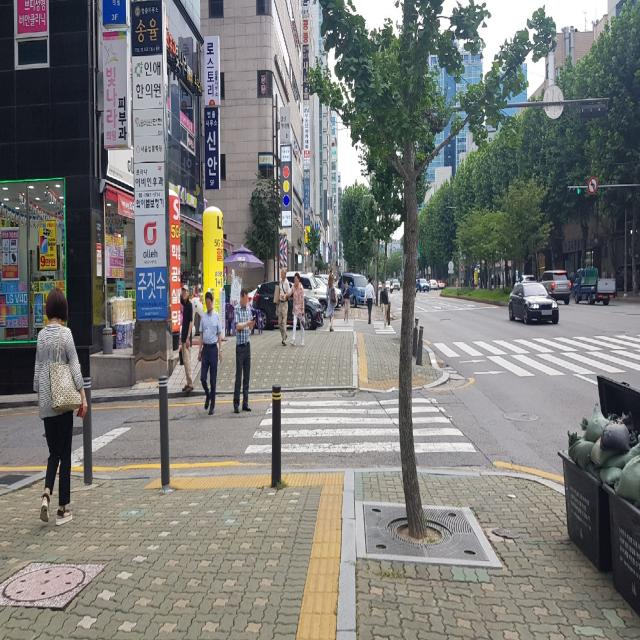횡단보도: (243, 396, 477, 456), (441, 338, 637, 372)
